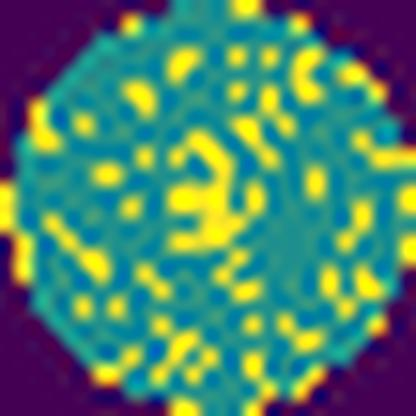Center: (162, 126, 266, 256)
